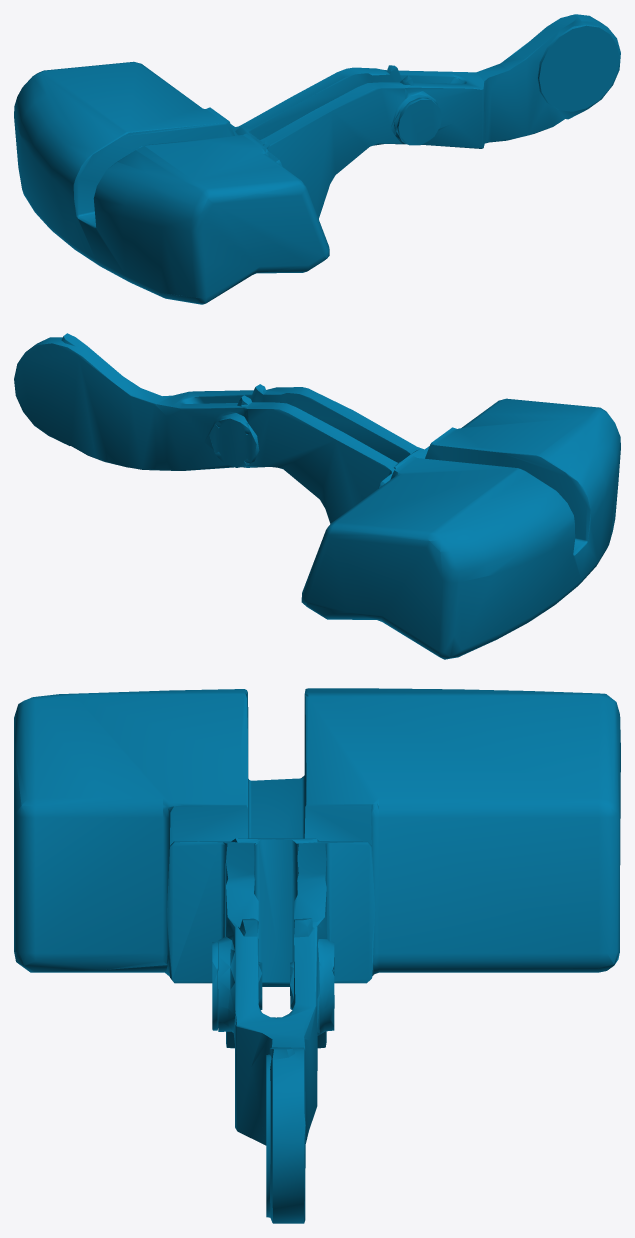
3 renders of one model, top to bottom at view 1: azimuth 30°, elevation 25°; view 2: azimuth 150°, elevation 25°; view 3: azimuth 270°, elevation 25°, orthographic. The views are drawn at different scales.
Visible parts, largest first — view 1: mh00400-j00_lk2_1; view 2: mh00400-j00_lk2_1; view 3: mh00400-j00_lk2_1.
Boxes of the visible parts, x1=… form: mh00400-j00_lk2_1: x1=14, y1=14, x2=620, y2=304; mh00400-j00_lk2_1: x1=14, y1=333, x2=620, y2=659; mh00400-j00_lk2_1: x1=14, y1=688, x2=620, y2=1223.
Bounding box in the file's own units: 1.54 × 0.8564 × 0.3687.
